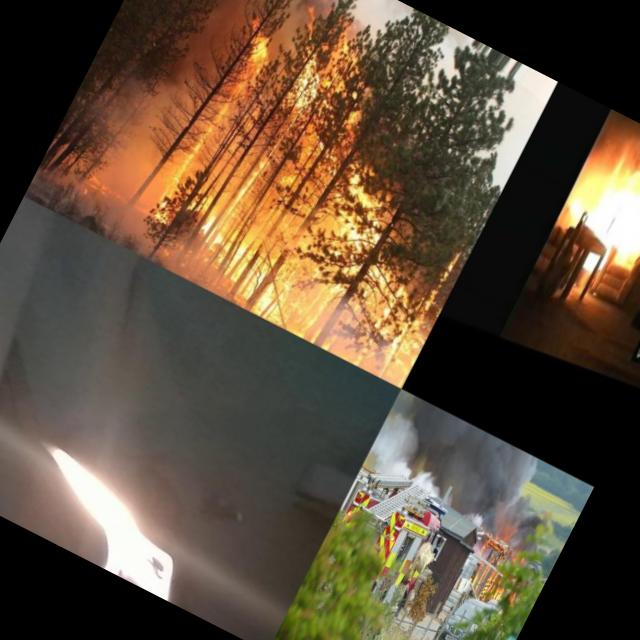fire: (179, 135, 473, 389), (0, 400, 235, 609), (144, 8, 284, 228), (552, 154, 640, 281), (263, 10, 351, 126), (80, 168, 128, 204), (471, 562, 502, 600), (474, 535, 496, 562), (489, 583, 507, 605)
smoke: (84, 72, 199, 201), (23, 164, 168, 262), (443, 432, 558, 548), (367, 389, 482, 499), (163, 0, 248, 105), (288, 0, 358, 22), (376, 0, 416, 22)
